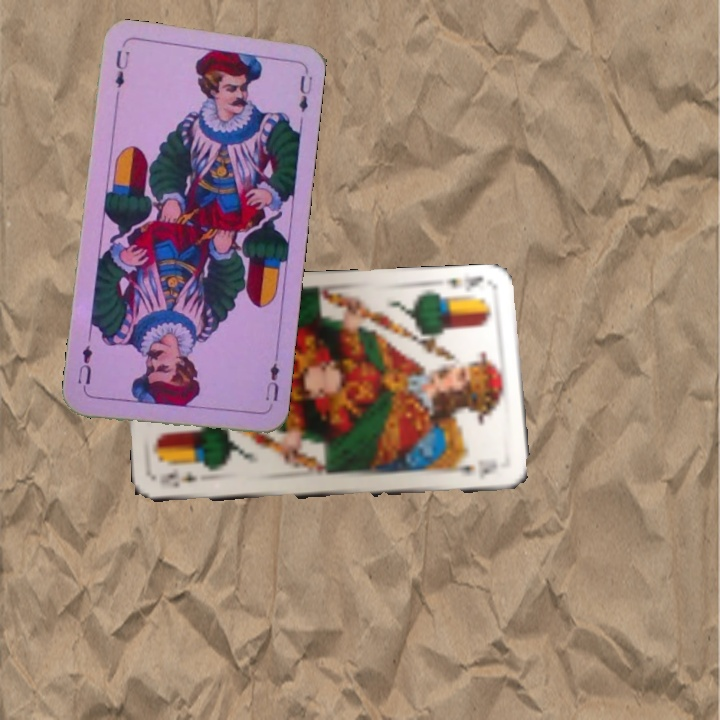EK: (441, 272, 486, 295), (156, 469, 199, 490)
EU: (110, 45, 132, 103), (261, 352, 282, 404)
